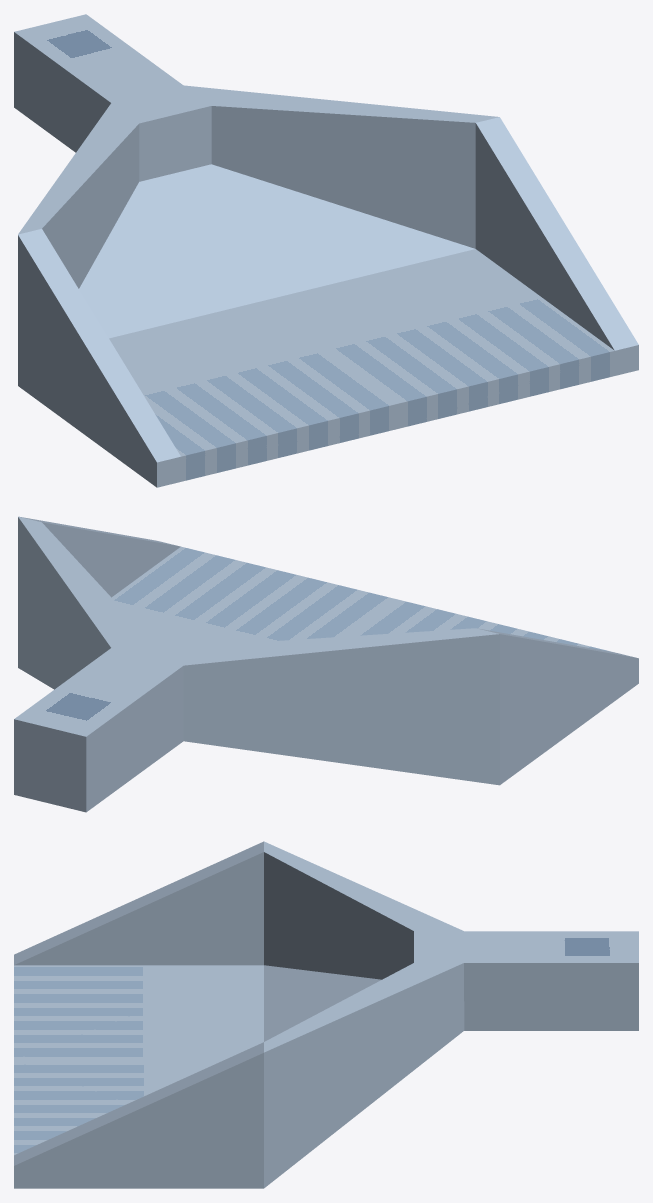
File: 0014_Dustpan.glb
The picture shows the model from 3 angles, top to bottom: view 1: azimuth 30°, elevation 25°; view 2: azimuth 150°, elevation 25°; view 3: azimuth 270°, elevation 25°; orthographic projection. The views are drawn at different scales.
Visible parts, largest first — view 1: part_0; view 2: part_0; view 3: part_0.
Part boxes in pixels (x1=…): part_0: x1=14, y1=14, x2=638, y2=487; part_0: x1=14, y1=516, x2=638, y2=812; part_0: x1=14, y1=841, x2=638, y2=1188.
Size of the model in its own units: 0.2 by 0.06 by 0.25.
Materials: 1 (1 with a texture image).
